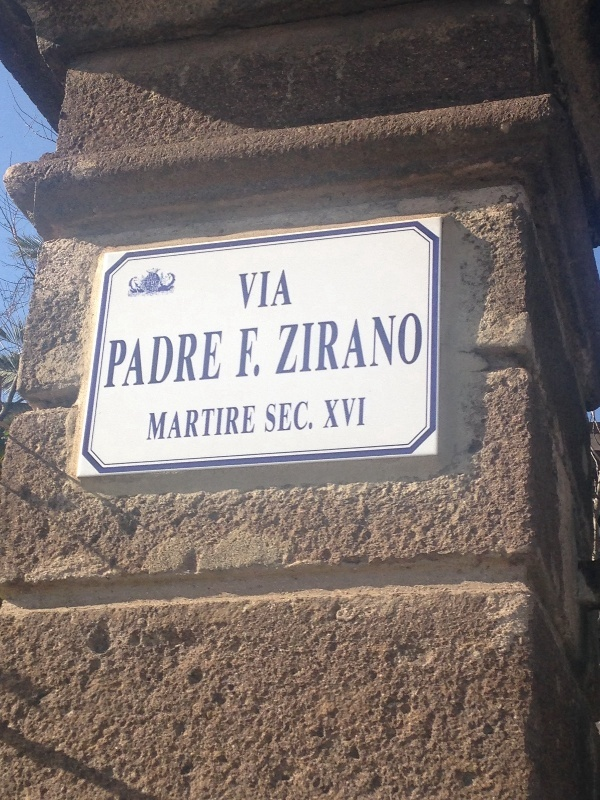text: (289, 313, 304, 379), (305, 313, 320, 379), (321, 313, 336, 379), (337, 313, 352, 379), (353, 313, 368, 379), (369, 313, 384, 379), (385, 313, 400, 379), (401, 313, 416, 379), (113, 330, 128, 389), (129, 330, 144, 389), (145, 330, 160, 389), (161, 330, 176, 389), (177, 330, 192, 389), (193, 330, 208, 389), (209, 330, 224, 389), (241, 326, 256, 379), (241, 269, 256, 311), (257, 269, 272, 311), (273, 269, 288, 311), (161, 404, 176, 443), (177, 404, 192, 443), (193, 404, 208, 443), (209, 404, 224, 443), (225, 404, 240, 443), (241, 404, 256, 443), (273, 399, 288, 436), (289, 399, 304, 436), (337, 396, 352, 430), (281, 313, 288, 379), (353, 396, 366, 430), (417, 313, 423, 379), (150, 404, 160, 443), (325, 396, 336, 430), (305, 399, 313, 436), (267, 399, 272, 436), (289, 269, 293, 311), (257, 326, 260, 379), (110, 330, 112, 389), (239, 269, 240, 311)
